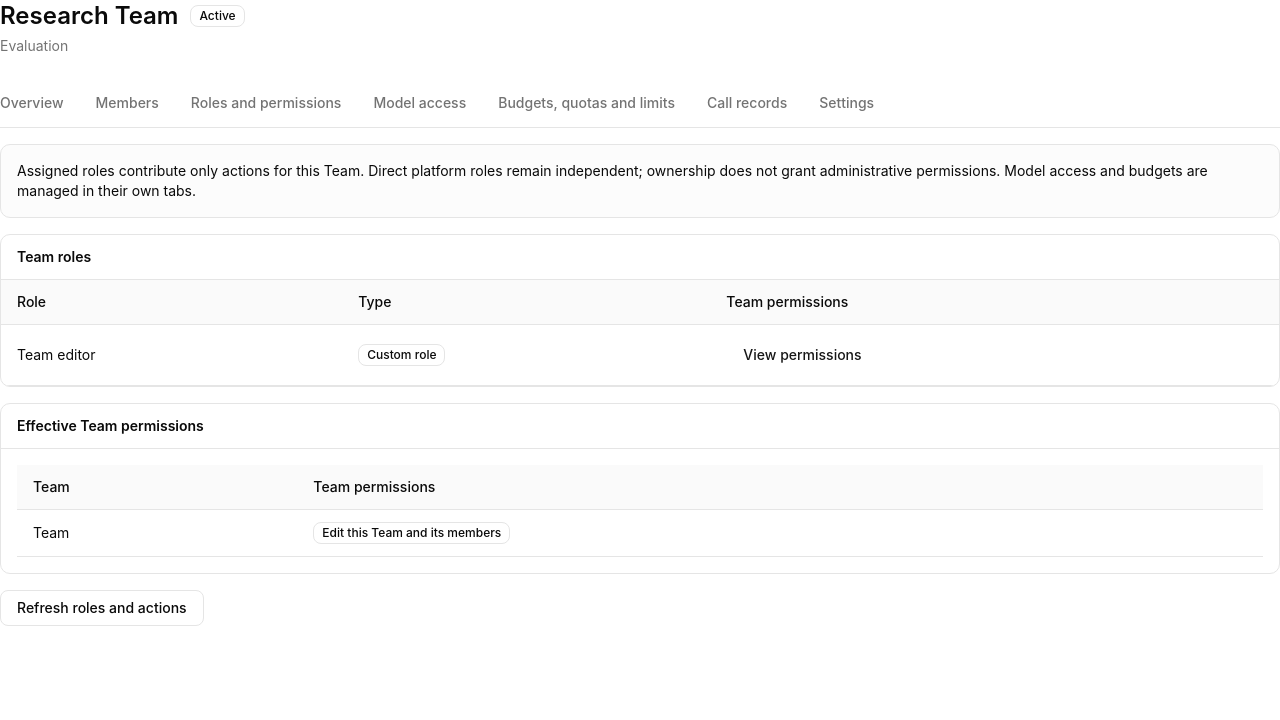
Team role workspace › reproduces compact assigned roles and effective union without leaking global role permissions
Click the button "View permissions". click: {"x": 802, "y": 355}
box: top-left (726, 337), bottom-right (879, 373)
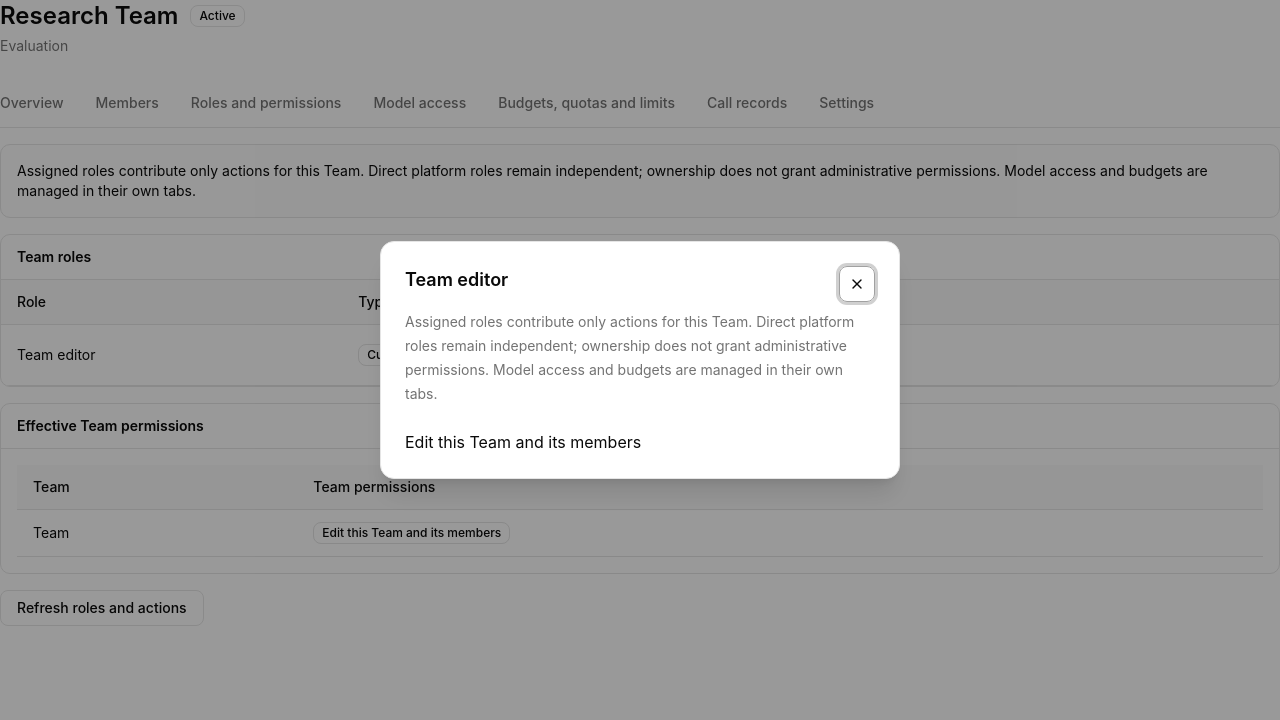
expect the dialog shows "Edit this Team and its members": met, box top-left (405, 432), bottom-right (641, 452)
